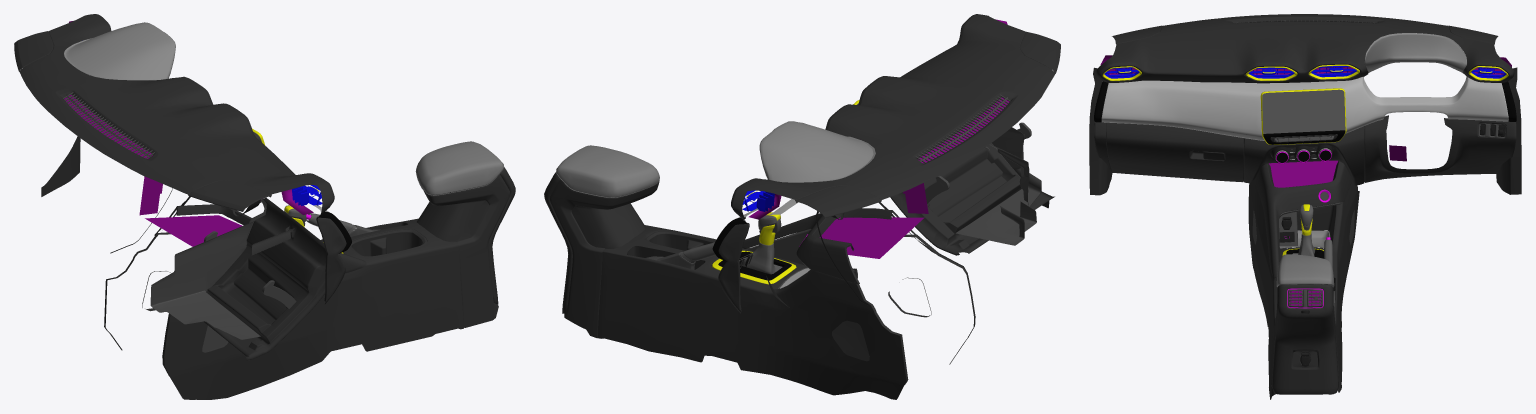
The model's file is MAGNITE_TURBO_CVT_XV_PRE_IN_DASH_CONSOLE_MESH.glb.
The picture shows the model from 3 angles, left to right: view 1: azimuth 30°, elevation 25°; view 2: azimuth 150°, elevation 25°; view 3: azimuth 270°, elevation 25°; orthographic projection. The views are drawn at different scales.
Parts seen in each view (by area): view 1: MAGNITE_TURBO_CVT_XV_PRE_IN_DASH_CONSOLE_MESH; view 2: MAGNITE_TURBO_CVT_XV_PRE_IN_DASH_CONSOLE_MESH; view 3: MAGNITE_TURBO_CVT_XV_PRE_IN_DASH_CONSOLE_MESH.
Boxes of the visible parts, x1,y1,x2,y2 form: MAGNITE_TURBO_CVT_XV_PRE_IN_DASH_CONSOLE_MESH: [14, 14, 515, 399]; MAGNITE_TURBO_CVT_XV_PRE_IN_DASH_CONSOLE_MESH: [544, 14, 1060, 399]; MAGNITE_TURBO_CVT_XV_PRE_IN_DASH_CONSOLE_MESH: [1089, 14, 1521, 399].
Size of the model in its own units: 1.33 by 0.8779 by 1.39.
